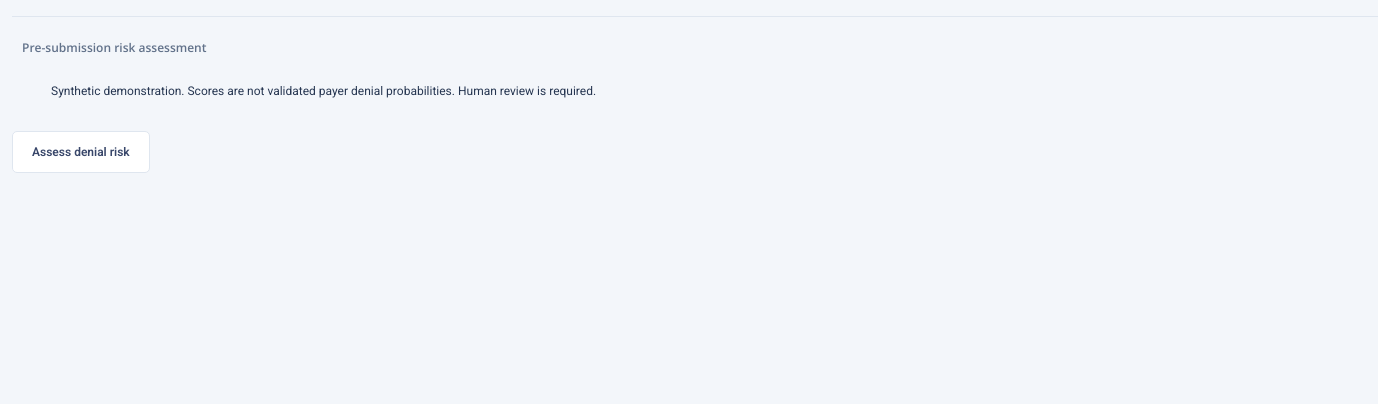
claim assessment › shows evidence and correction for the current version and hides stale results
The image size is (1378, 404).
Later steps or results of the test are not shown.
Click the button "Assess denial risk". click: click(81, 152)
box: [12,131,150,173]
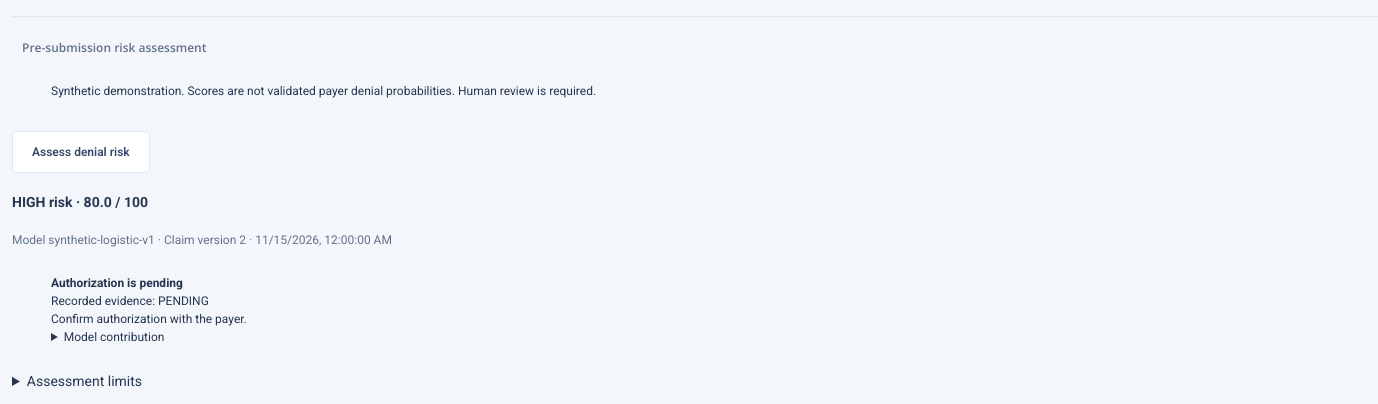
Result: the text "Authorization is pending" is shown at [51,276,183,290]
Result: the text "Confirm authorization with the payer." is shown at [51,312,247,326]
